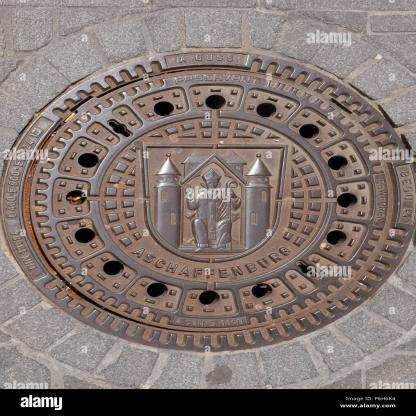closed manhole-not overflowing-: (0, 57, 414, 352)
